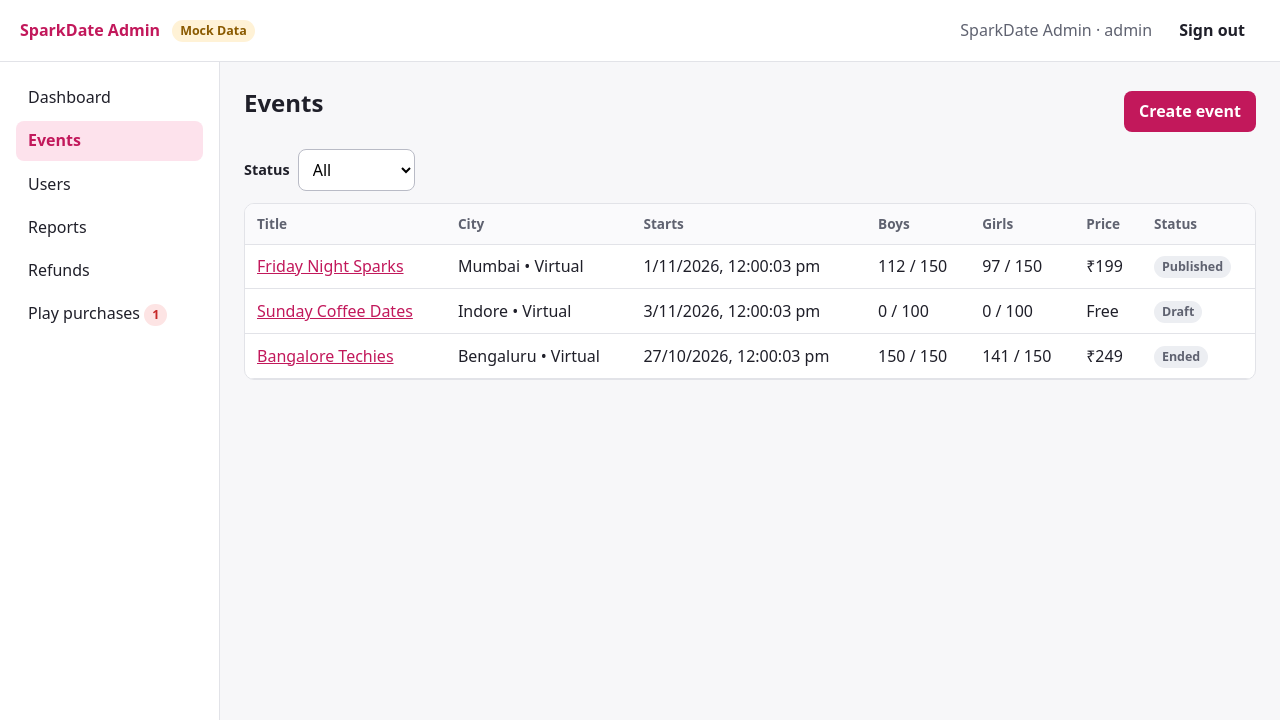
pages (mock API) › events list shows seats booked vs capacity and filters by status
Check: the text "112 / 150" is shown, box 866,245 -> 970,289
Select "cancelled" in the dropdown labelled "Status" at (356, 170), box 298,149 -> 415,191
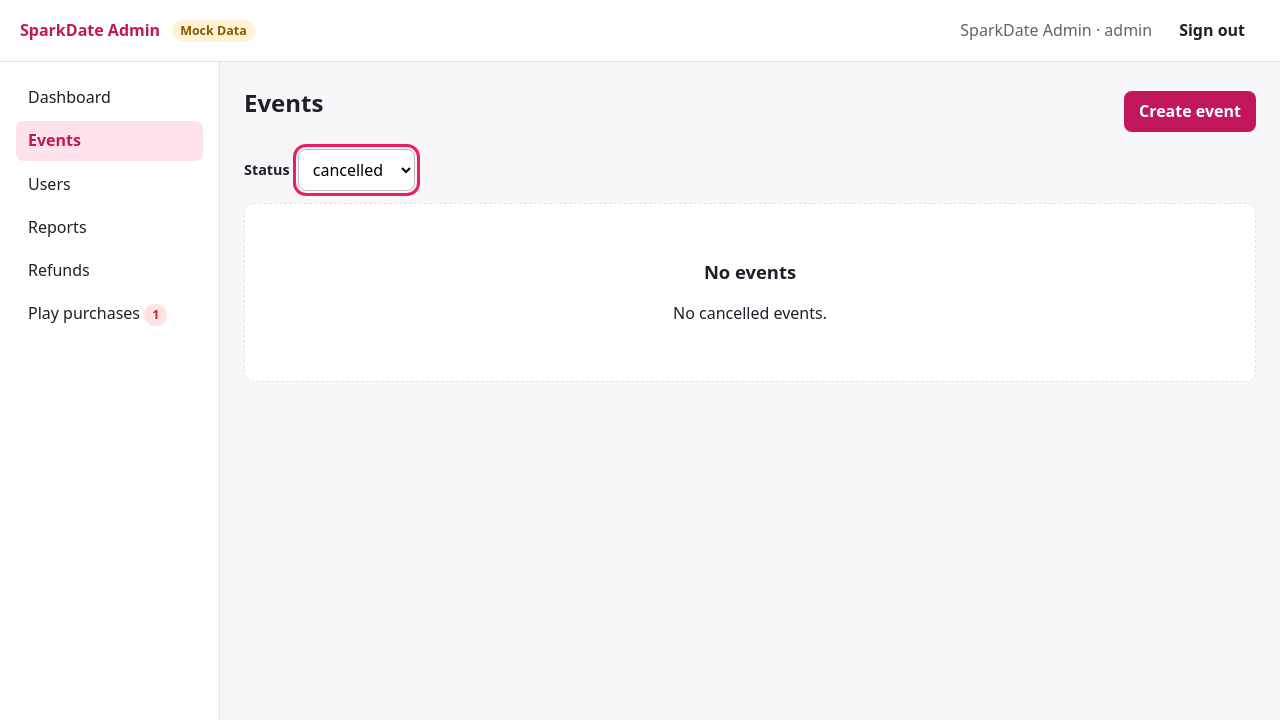
Check: the heading "No events" is shown, box 704,259 -> 796,284
